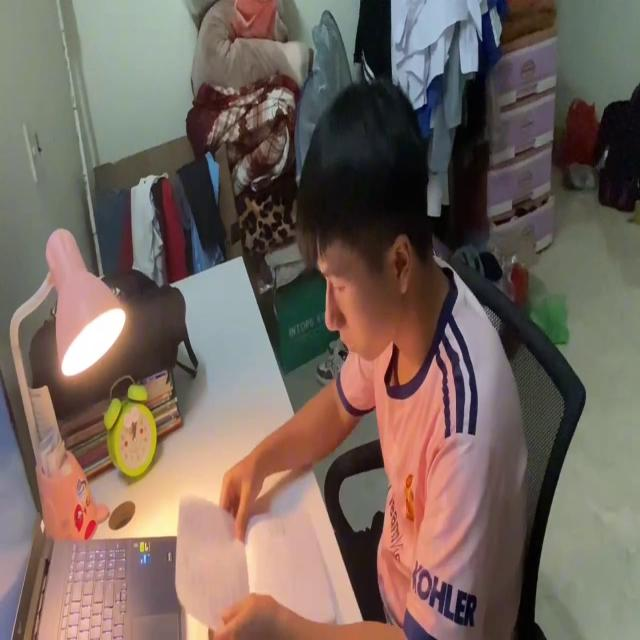book: (172, 486, 342, 628)
laptop: (1, 373, 182, 640)
student: (208, 72, 528, 640)
